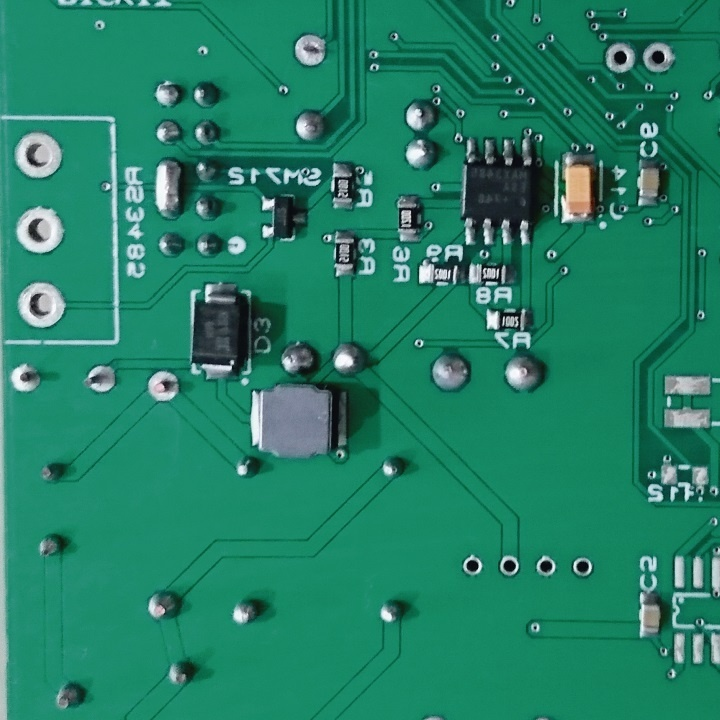F: (13, 129, 66, 185), (13, 205, 69, 258), (16, 280, 72, 330), (143, 367, 184, 407), (640, 38, 678, 80), (291, 32, 328, 72), (601, 39, 638, 78), (7, 360, 43, 398), (81, 362, 118, 397), (531, 552, 559, 581), (496, 551, 521, 580), (460, 552, 486, 578), (570, 553, 595, 580)
P: (150, 155, 184, 224)
